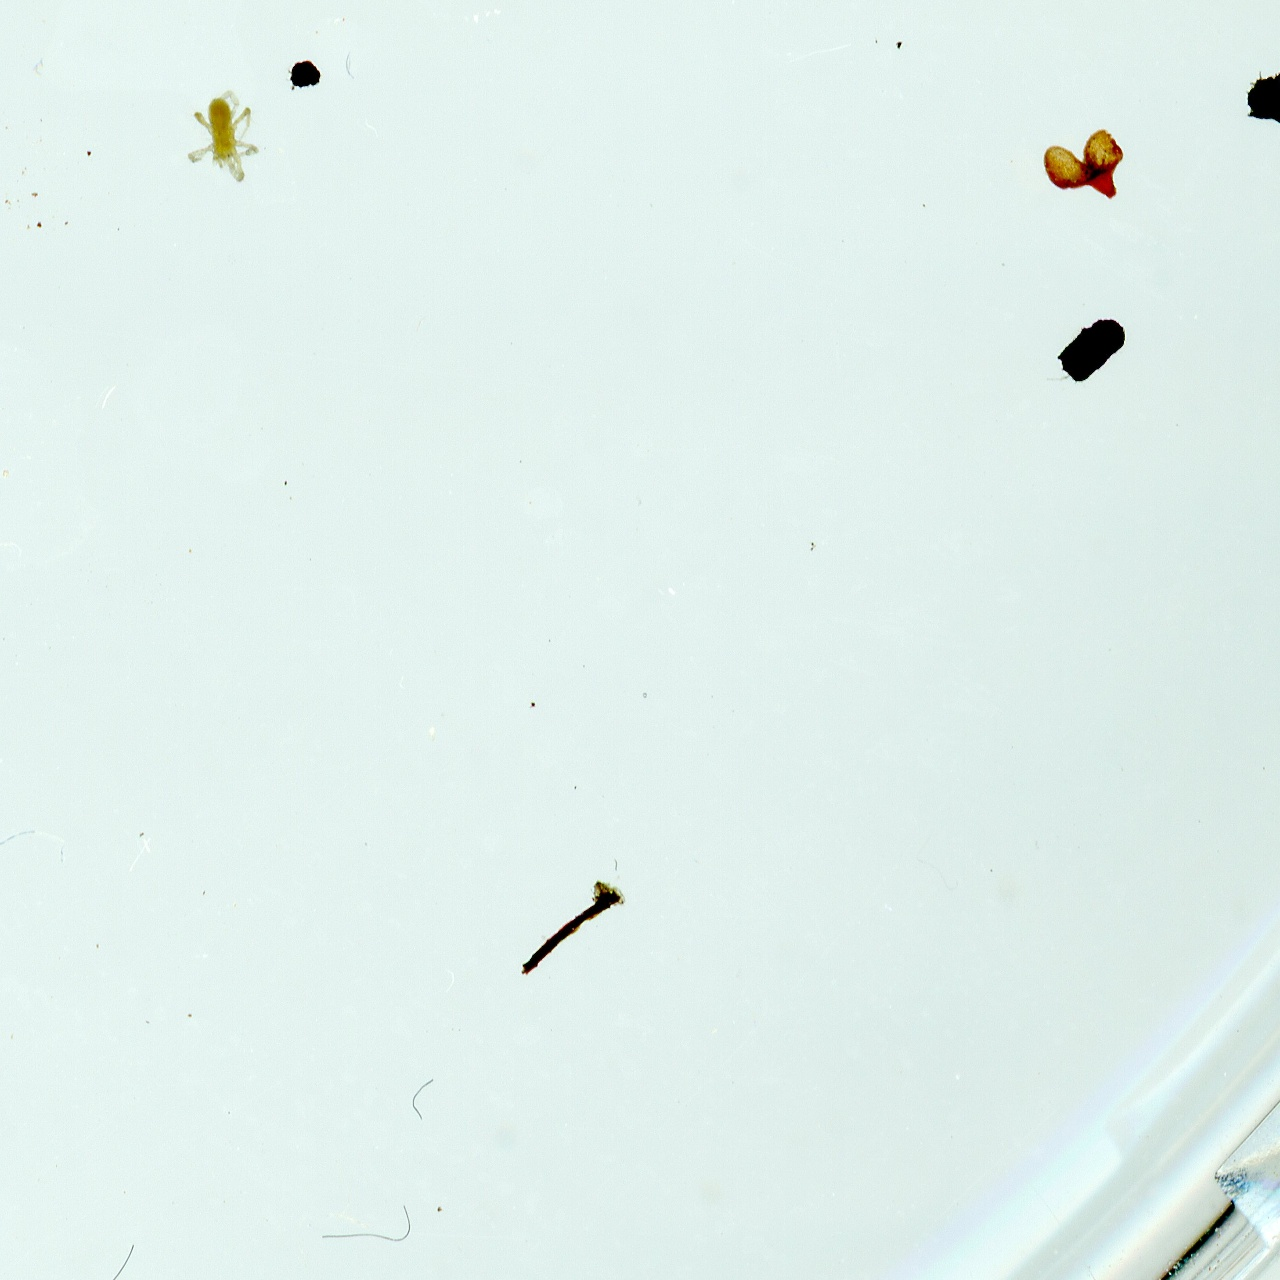arthropod: (185, 88, 263, 186)
